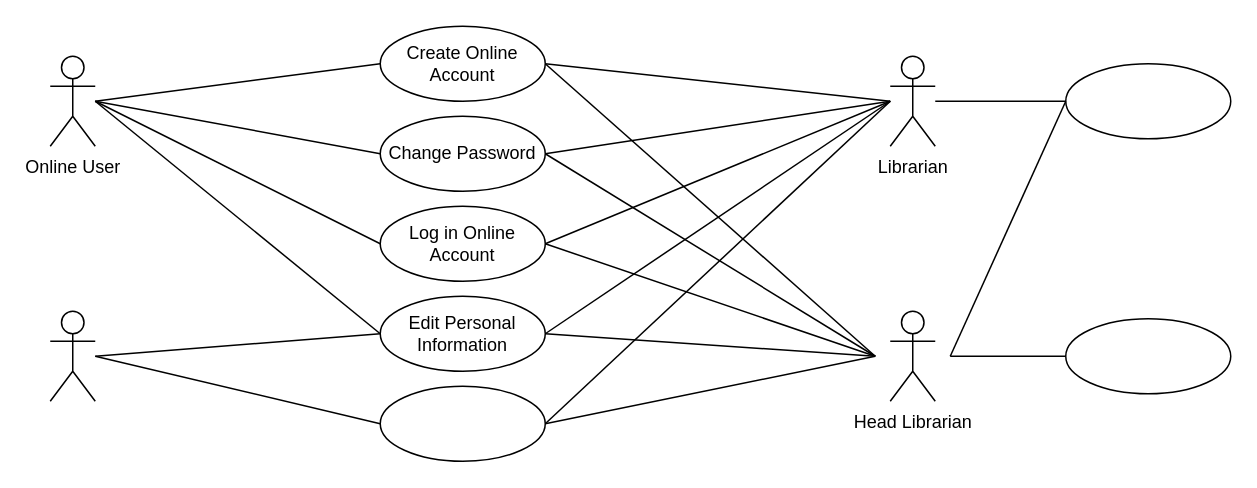
Image size: 1257x488. Some labels were removed from this diagram. The shapes that lost their labels are listed below. From the top down, each one's centre as x and y in pixels, then its label:
At point 1147,100: "Create Offline Account".
At point 72,355: "Offline User".
At point 1147,355: "Set Librarian Account".
At point 462,423: "Log in Offline Account".
